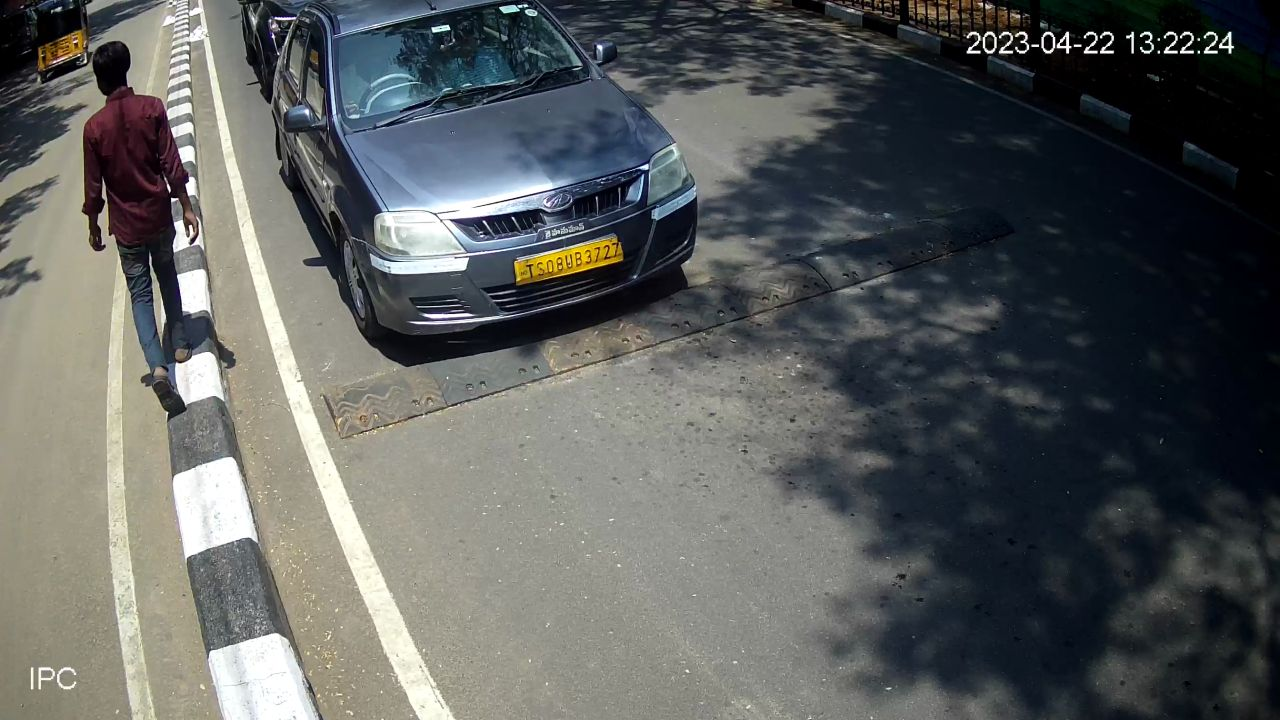license_plate: (507, 227, 628, 294)
